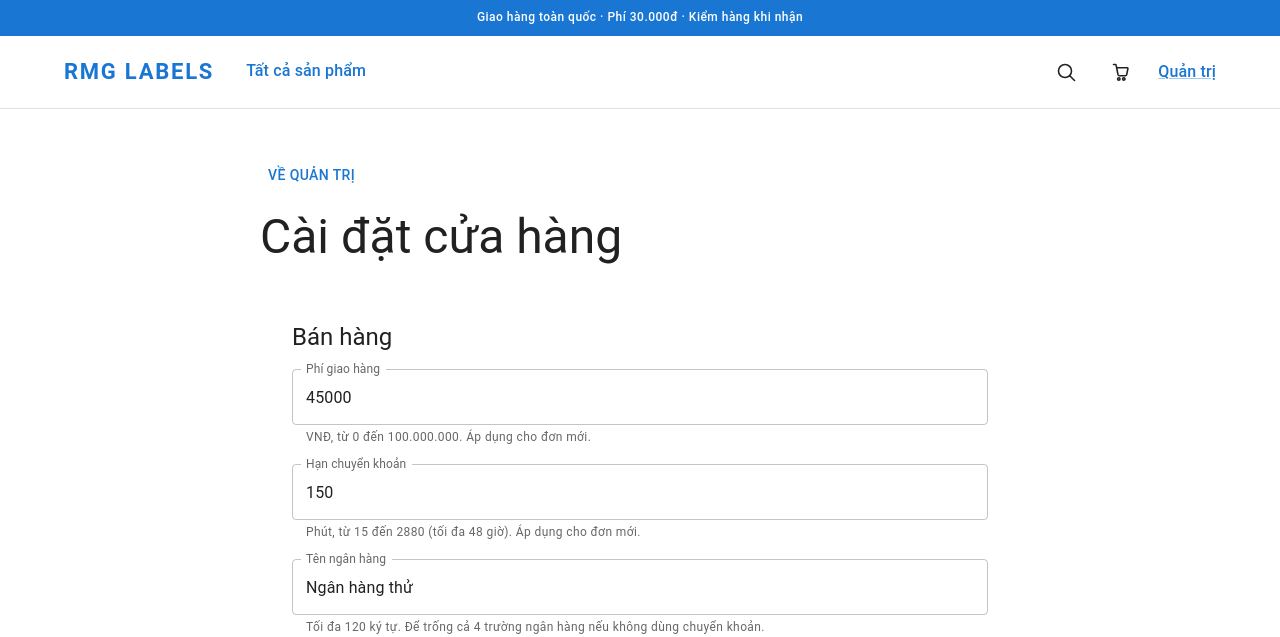
Test: admin settings page › keeps the draft and conflict lock when a confirmed reload fails
Replace the text in the field labelled "Phí giao hàng" with "51000": (640, 397) [292,369,988,425]
(page scrolled)
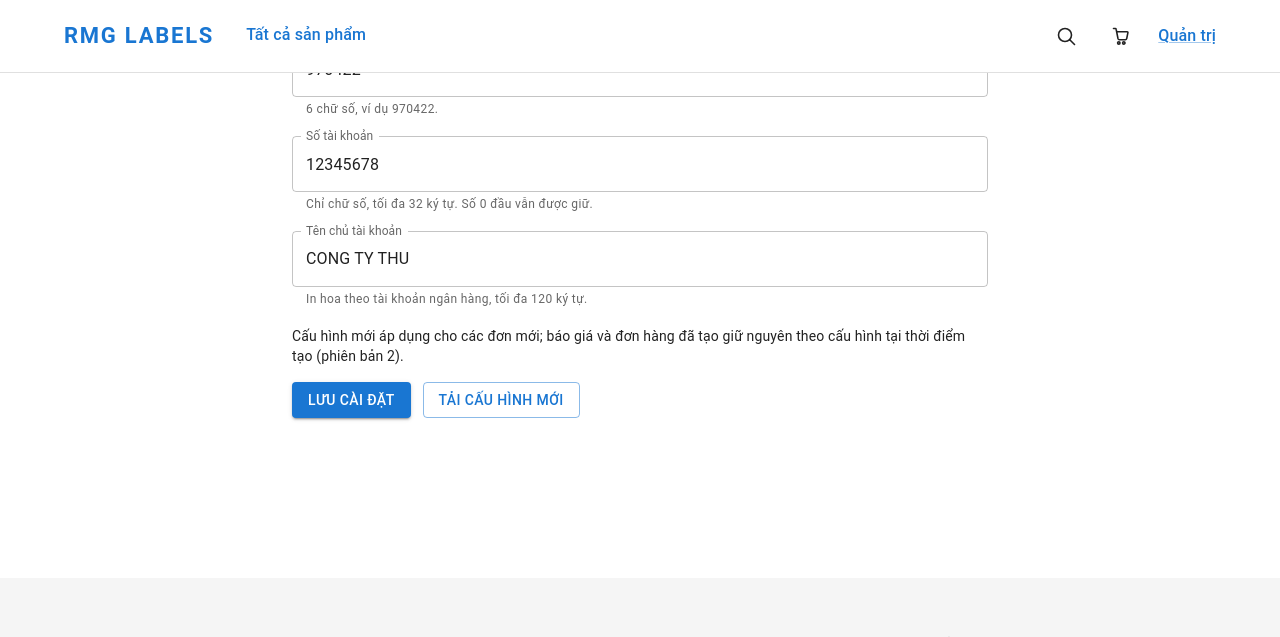
Click the button "Lưu cài đặt": click(351, 400) [292,382,411,418]
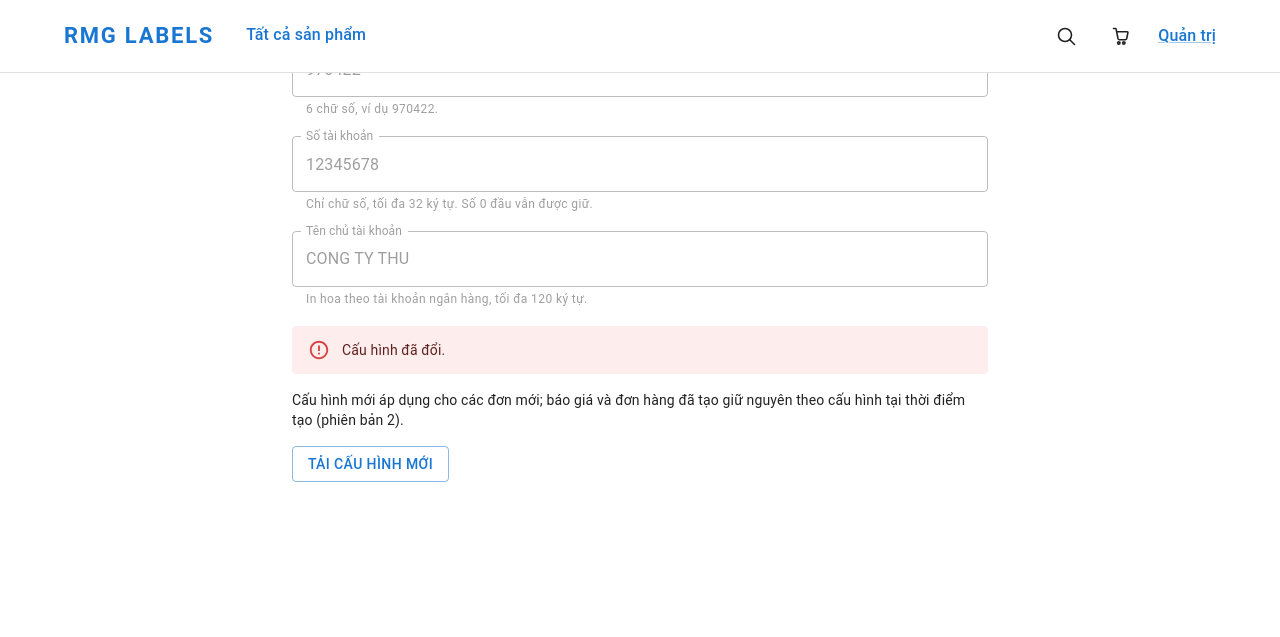
Check: the text "Cấu hình đã đổi." is shown, box [342,342,445,358]
Click the button "Tải cấu hình mới": click(370, 464) [292,446,449,482]
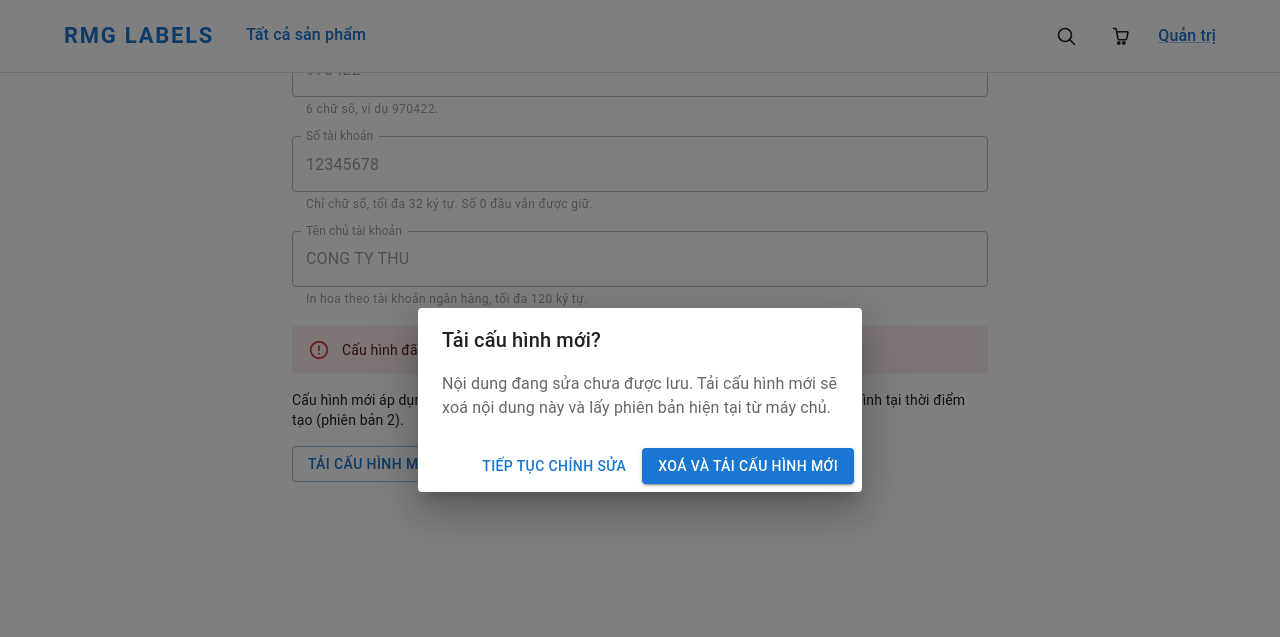
Click the button "Xoá và tải cấu hình mới": click(748, 466) [642,448,854,484]
(page scrolled)
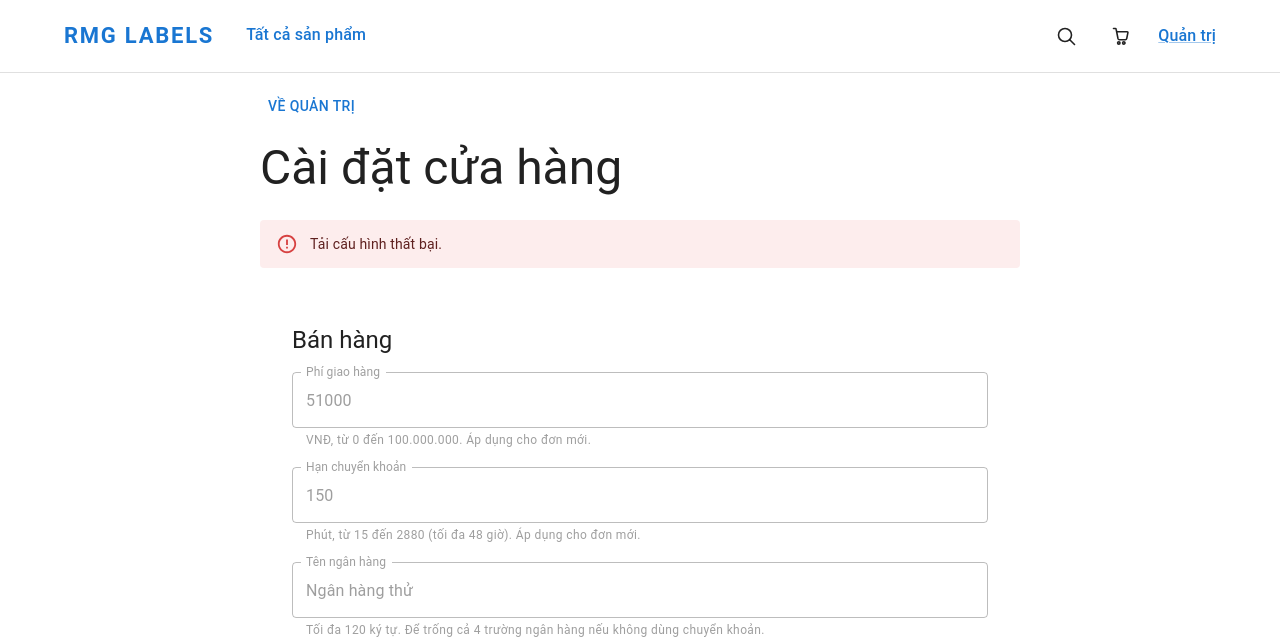
Check: the field labelled "Phí giao hàng" is disabled, box [292,372,988,428]
Check: the text "Tải cấu hình thất bại." is shown, box [310,236,442,252]
